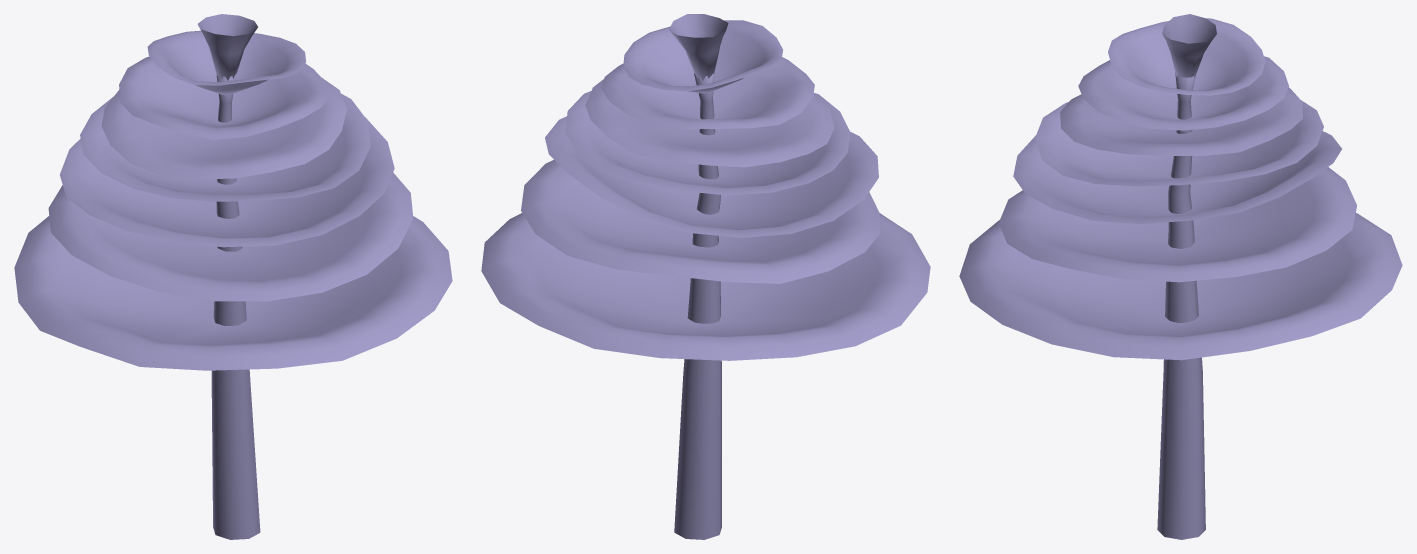
The model's file is SM_ocean_christmas_treeWorm_03.fbx.
3 views of the same model, side by side, from view 1: azimuth 30°, elevation 25°; view 2: azimuth 150°, elevation 25°; view 3: azimuth 270°, elevation 25° (orthographic). The views are drawn at different scales.
Visible parts, largest first — view 1: SM_ocean_christmas_treeWorm_03_LOD0; view 2: SM_ocean_christmas_treeWorm_03_LOD0; view 3: SM_ocean_christmas_treeWorm_03_LOD0.
Part boxes in pixels (box(x1,y1,x2,y2)): SM_ocean_christmas_treeWorm_03_LOD0: box(14, 14, 452, 539); SM_ocean_christmas_treeWorm_03_LOD0: box(481, 14, 930, 539); SM_ocean_christmas_treeWorm_03_LOD0: box(959, 14, 1402, 539).
Size of what is drawn, in the model's own units: 19.94 by 20.07 by 24.99.
